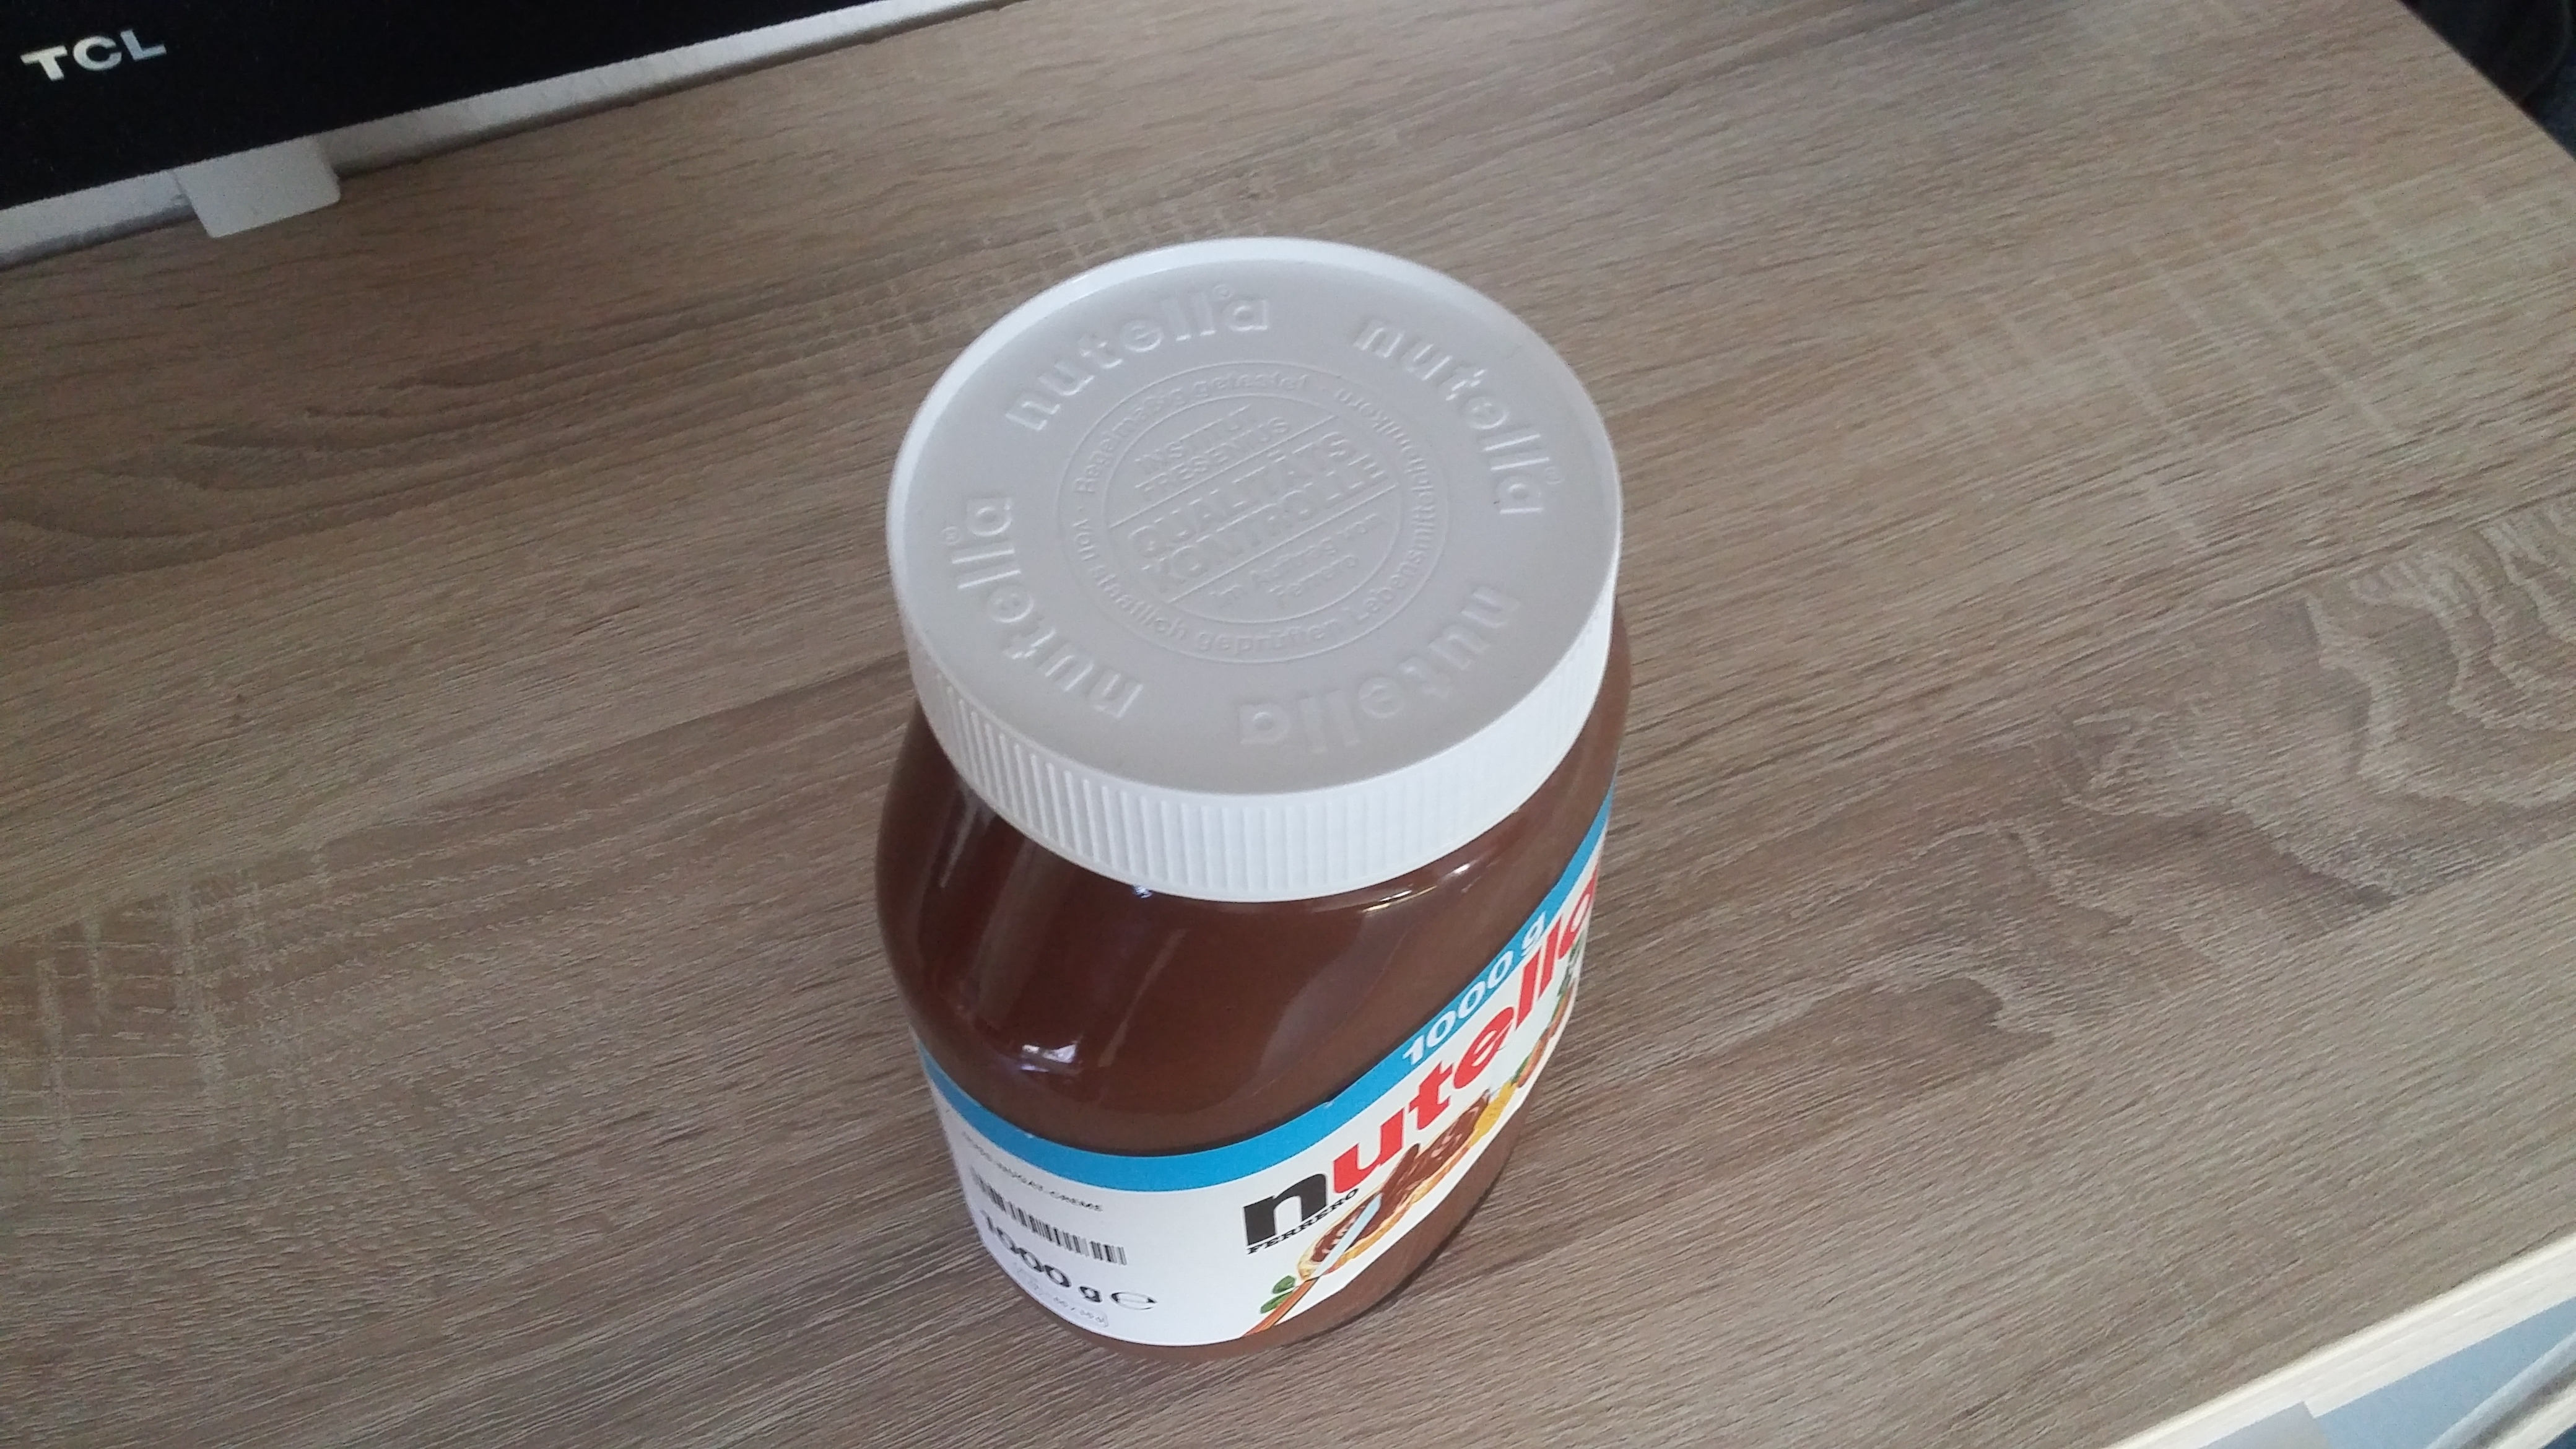nutella: (869, 232, 1633, 1352)
